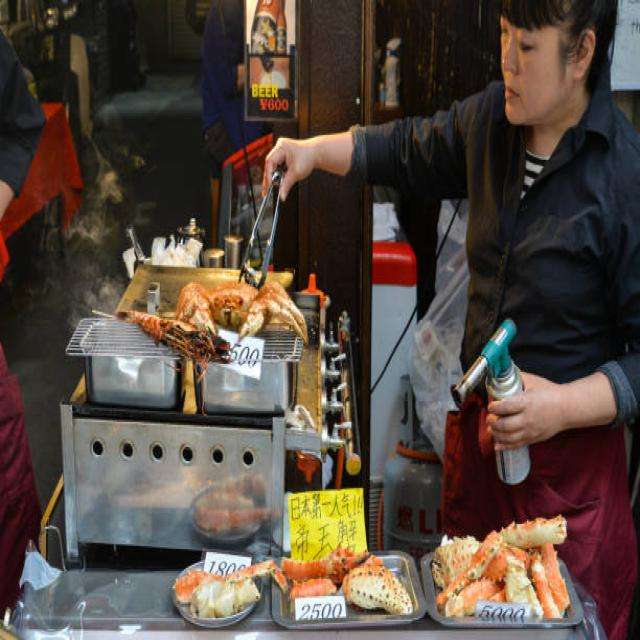Emperan: (56, 136, 640, 640)
